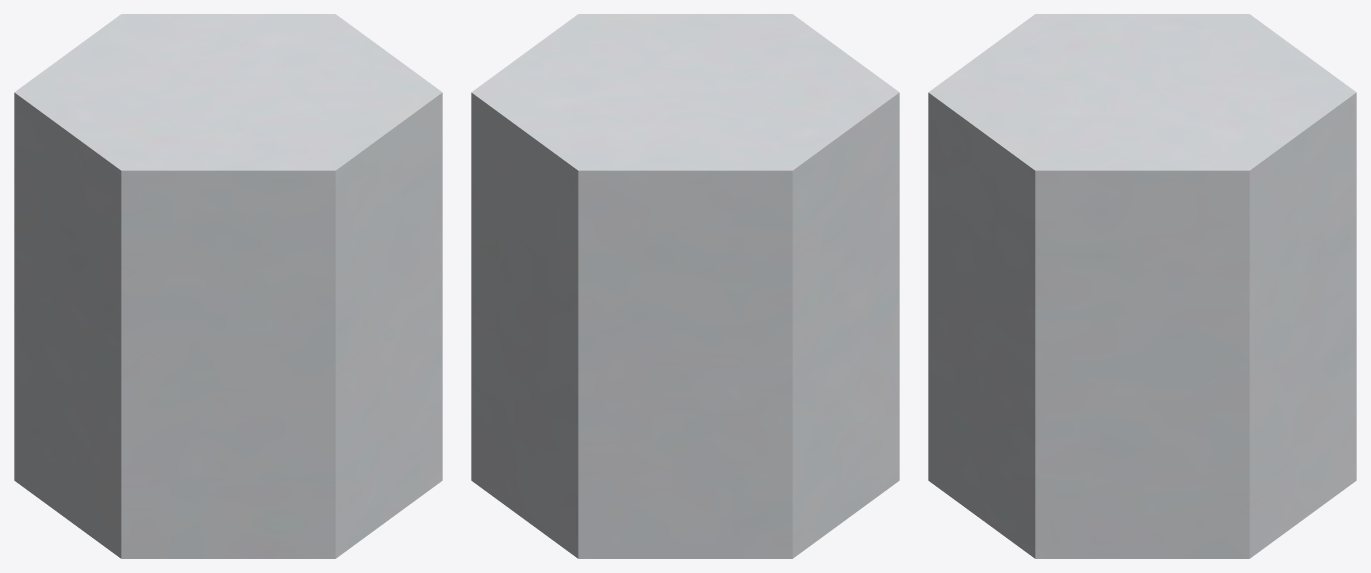
The model's file is obstacle-light-steady-yellow-cbj_LOD02.gltf.
3 views of the same model, side by side, from view 1: azimuth 30°, elevation 25°; view 2: azimuth 150°, elevation 25°; view 3: azimuth 270°, elevation 25° (orthographic).
Parts seen in each view (by area): view 1: night.003; view 2: night.003; view 3: night.003.
Part boxes in pixels (x1,y1,x2,y2): night.003: [14, 14, 442, 558]; night.003: [471, 14, 899, 558]; night.003: [928, 14, 1356, 558].
Size of what is drawn, in the model's own units: 0.6879 by 0.7943 by 0.7943.
